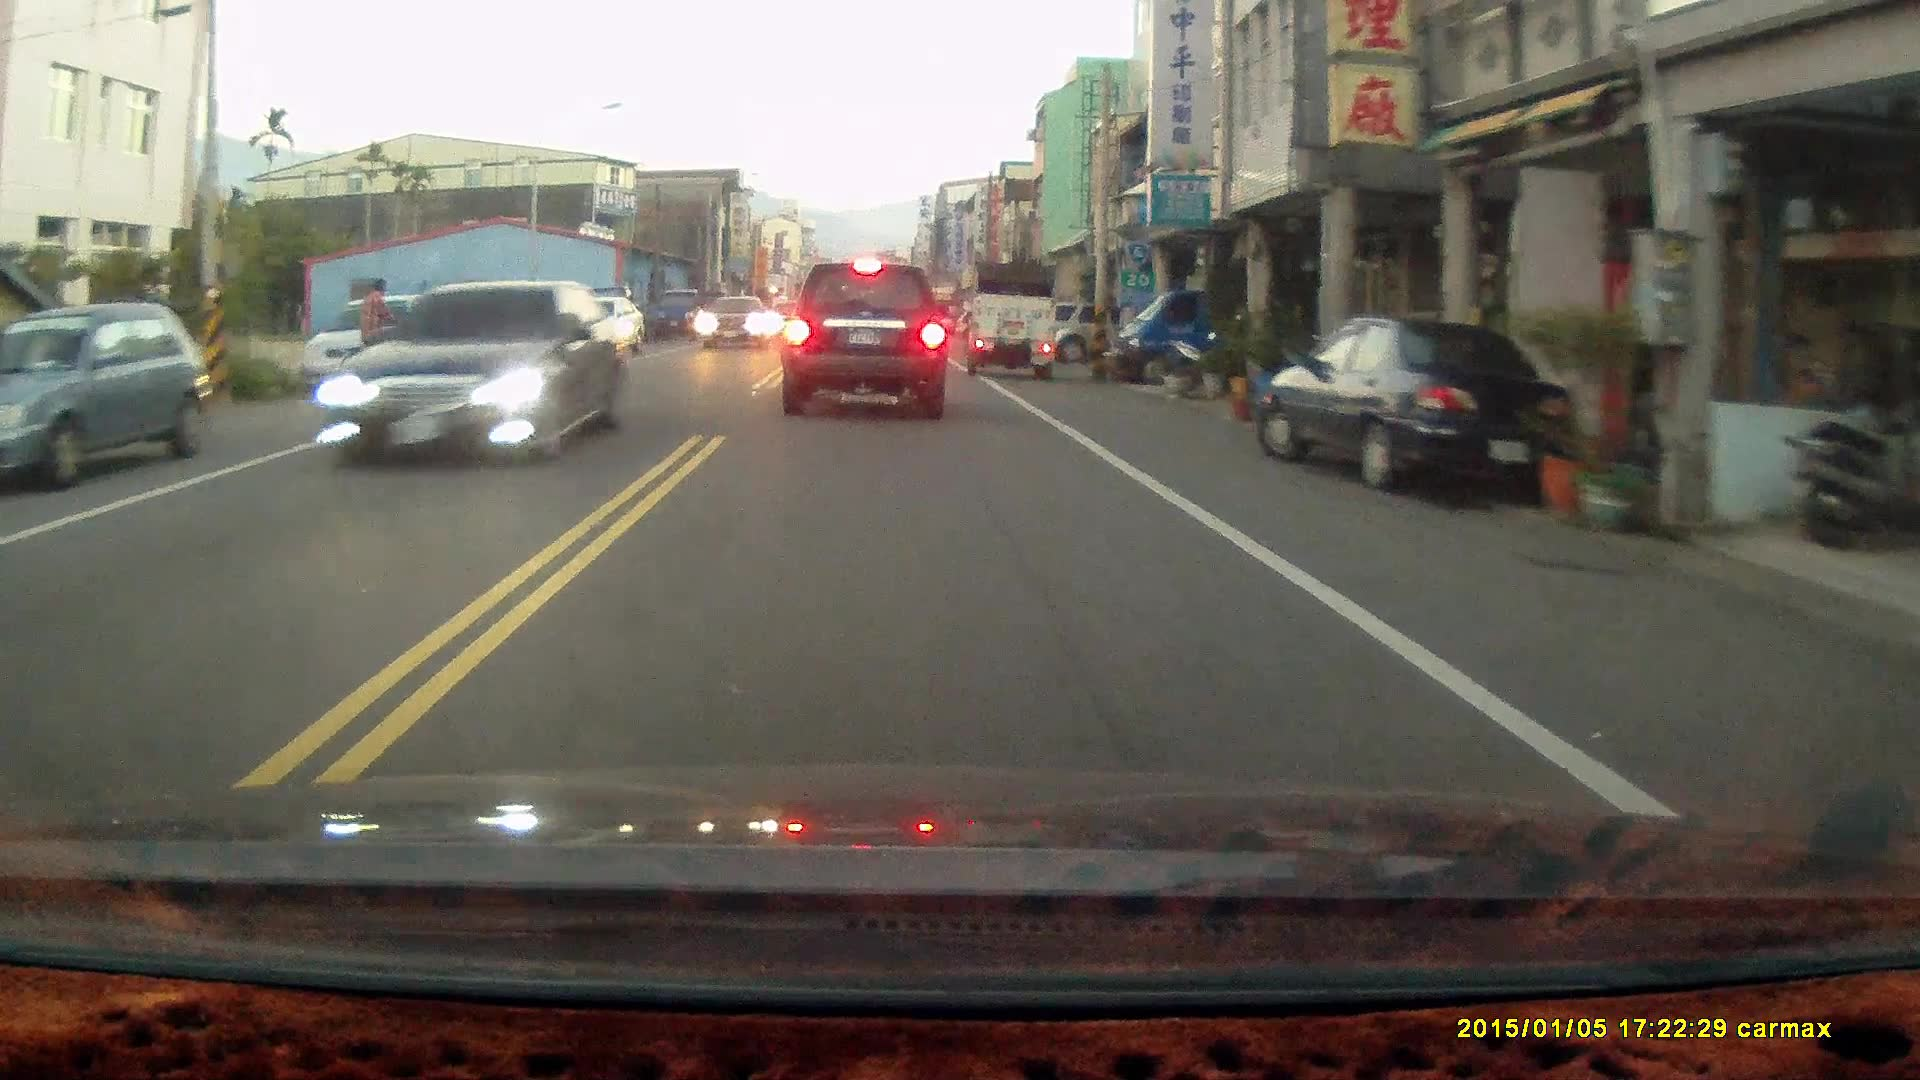rider: (333, 276, 419, 399)
vehicle: (303, 282, 639, 468), (1252, 315, 1578, 497), (1, 306, 210, 489), (784, 260, 949, 418), (1104, 269, 1253, 384), (964, 257, 1060, 375), (550, 292, 647, 359), (702, 297, 776, 348), (650, 285, 705, 338)
